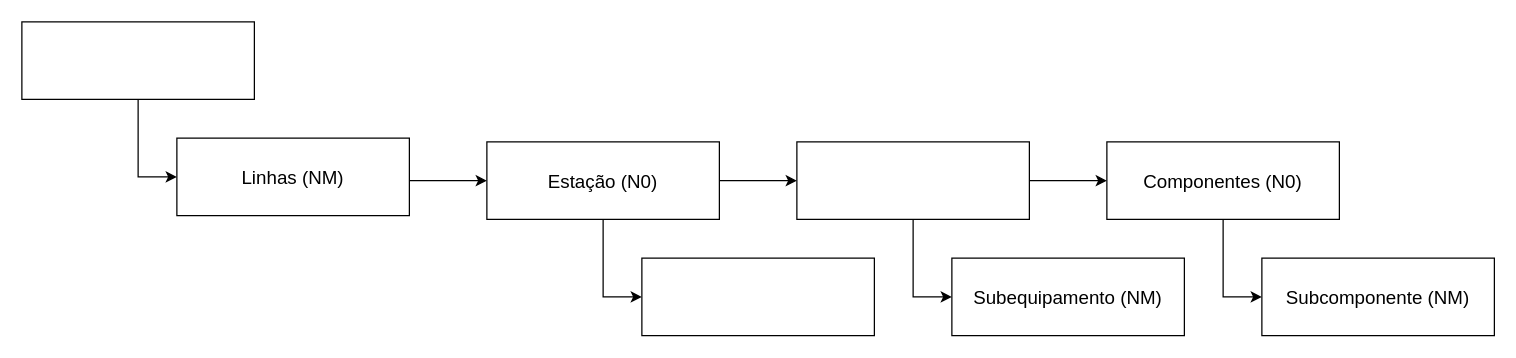
Some shapes in this 1516 by 358 pixel diagram are drawn without their labels. The shapes that lost their labels are listed below. From the top down, each one's centre as x and y in pixels, then its label:
At point (137, 60): "Grupo de Linhas (N0)".
At point (912, 180): "Equipamento (N0)".
At point (757, 296): "Subestação ( NM )".
